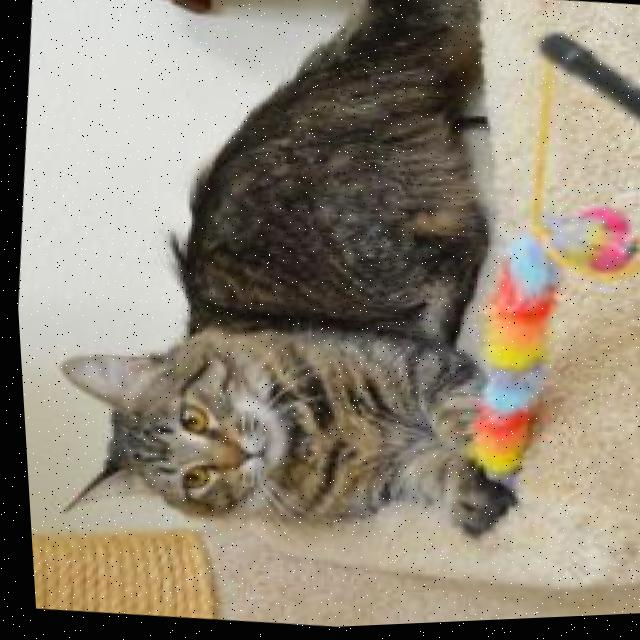Maine Coon: (16, 0, 572, 568)
